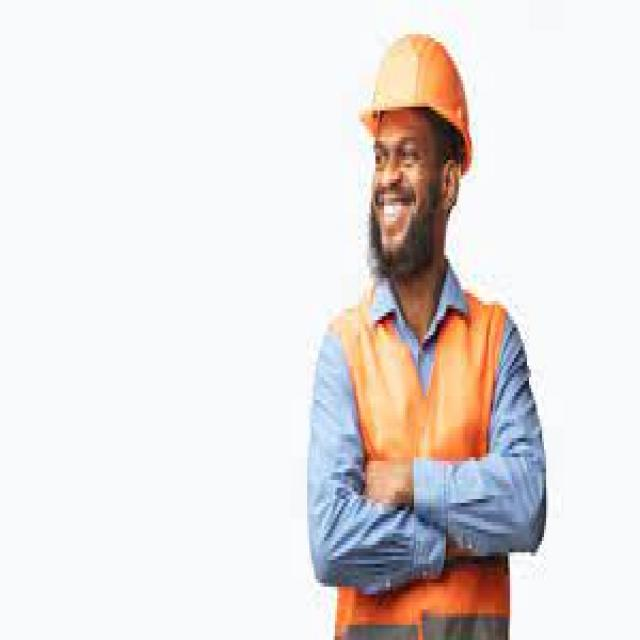Reflective-Jacket: (322, 282, 521, 632)
Safety-Helmet: (356, 11, 482, 168)
